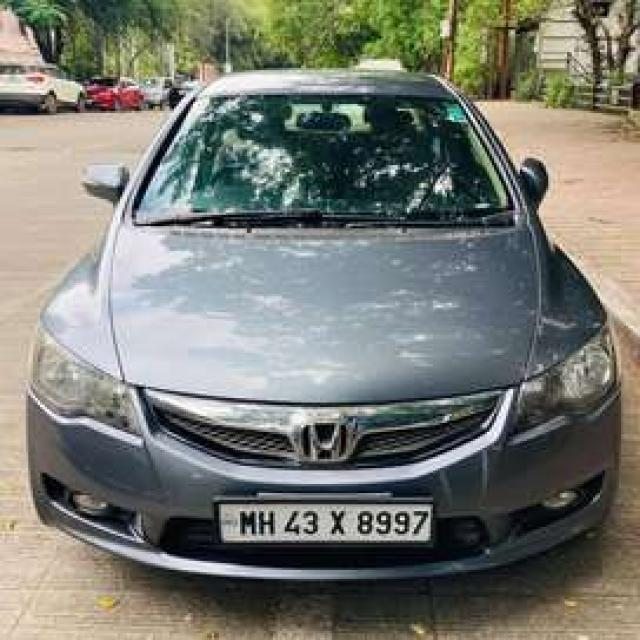licenseplate: (213, 497, 433, 544)
